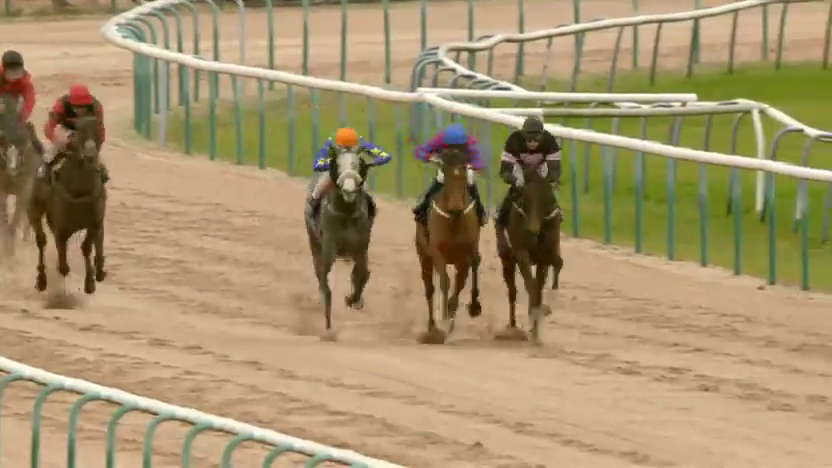jockey: (305, 127, 391, 223), (410, 127, 488, 223), (503, 117, 561, 224), (43, 82, 107, 178)
